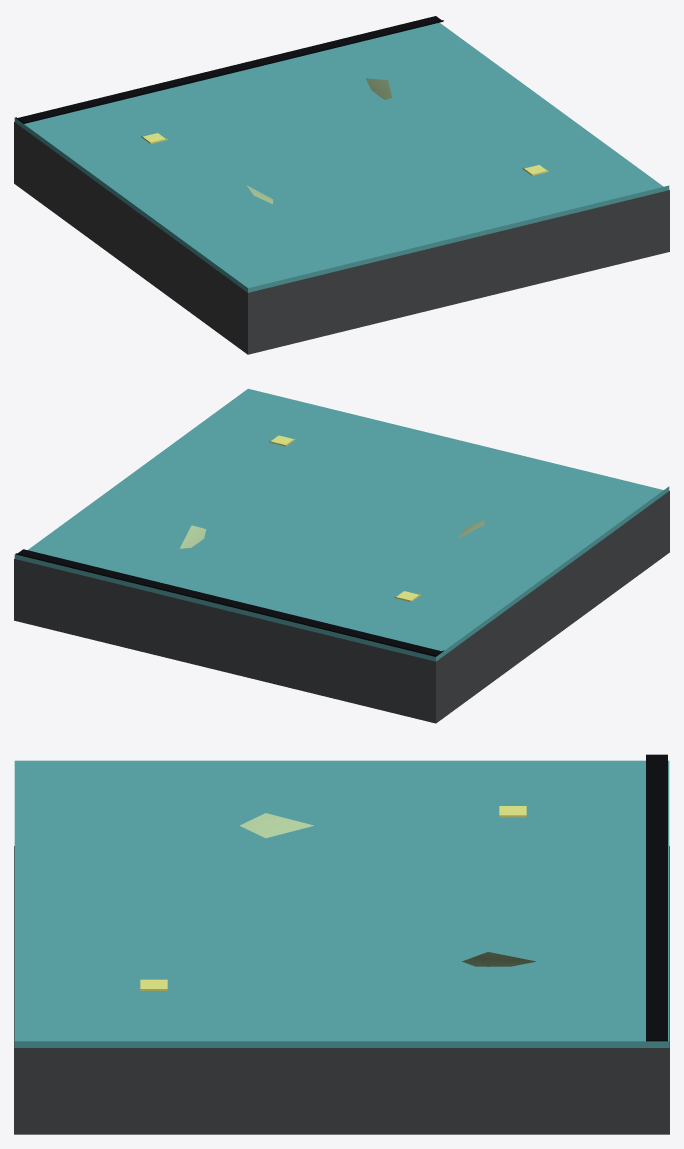
Rendered from tt_climb_mat_300_2x192.glb.
The picture shows the model from 3 angles, top to bottom: view 1: azimuth 30°, elevation 25°; view 2: azimuth 150°, elevation 25°; view 3: azimuth 270°, elevation 25°; orthographic projection. The views are drawn at different scales.
Parts seen in each view (by area): view 1: Mat_Cover, Mat_Core, Velcro_Seam_Flap, Leaf_Print; view 2: Mat_Cover, Mat_Core, Velcro_Seam_Flap, Leaf_Print; view 3: Mat_Cover, Mat_Core, Velcro_Seam_Flap, Leaf_Print, Ball_Dots.
Part boxes in pixels (x1,y1,x2,y2): Mat_Cover: (14,22,669,292); Mat_Core: (14,122,669,354); Velcro_Seam_Flap: (15,16,443,123); Leaf_Print: (246,78,391,204); Mat_Cover: (14,388,669,661); Mat_Core: (14,491,669,723); Velcro_Seam_Flap: (15,549,443,656); Leaf_Print: (180,520,484,548); Mat_Cover: (14,760,669,1047); Mat_Core: (14,846,669,1134); Velcro_Seam_Flap: (646,754,667,1041); Leaf_Print: (239,813,536,966); Ball_Dots: (140,806,526,990).
Size of what is drawn, in the model's own units: 2 by 0.3412 by 1.92.
5 materials, 1 textured.
